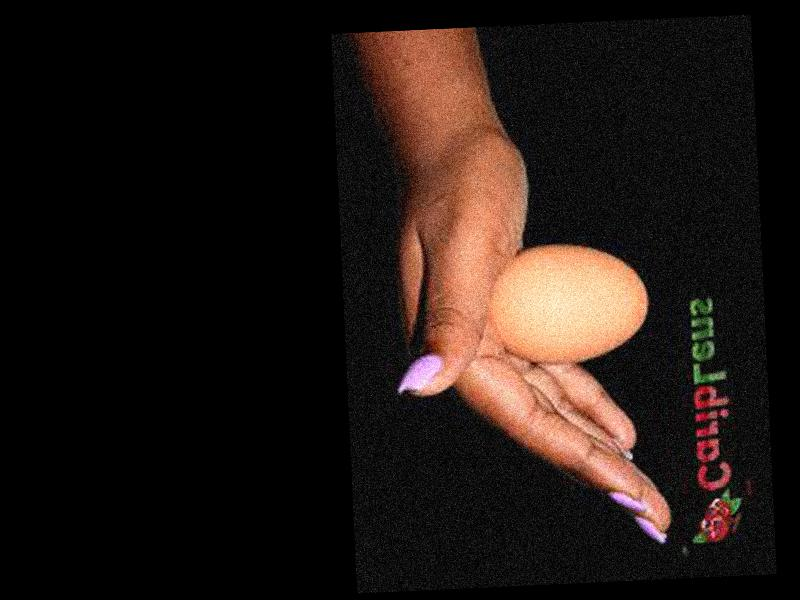Eggs: (488, 239, 651, 368)
